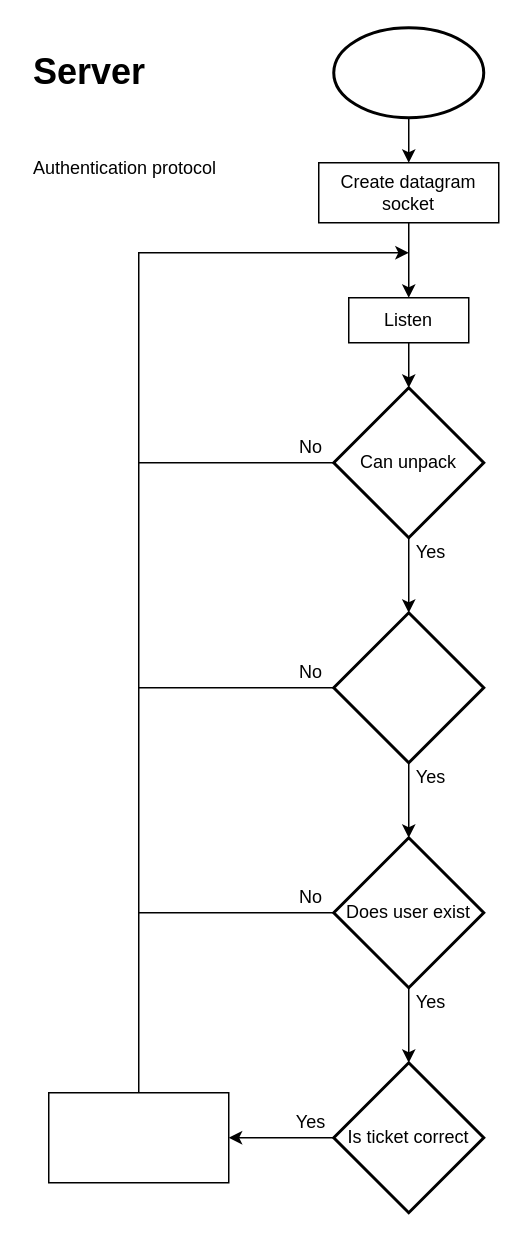
This 525x1239 diagram has some shape labels left out. The centre of each missing label's shape, as x and y in pixels:
Can decrypt: point (408, 687)
Open ports for user: point (138, 1137)
Start: point (408, 72)
